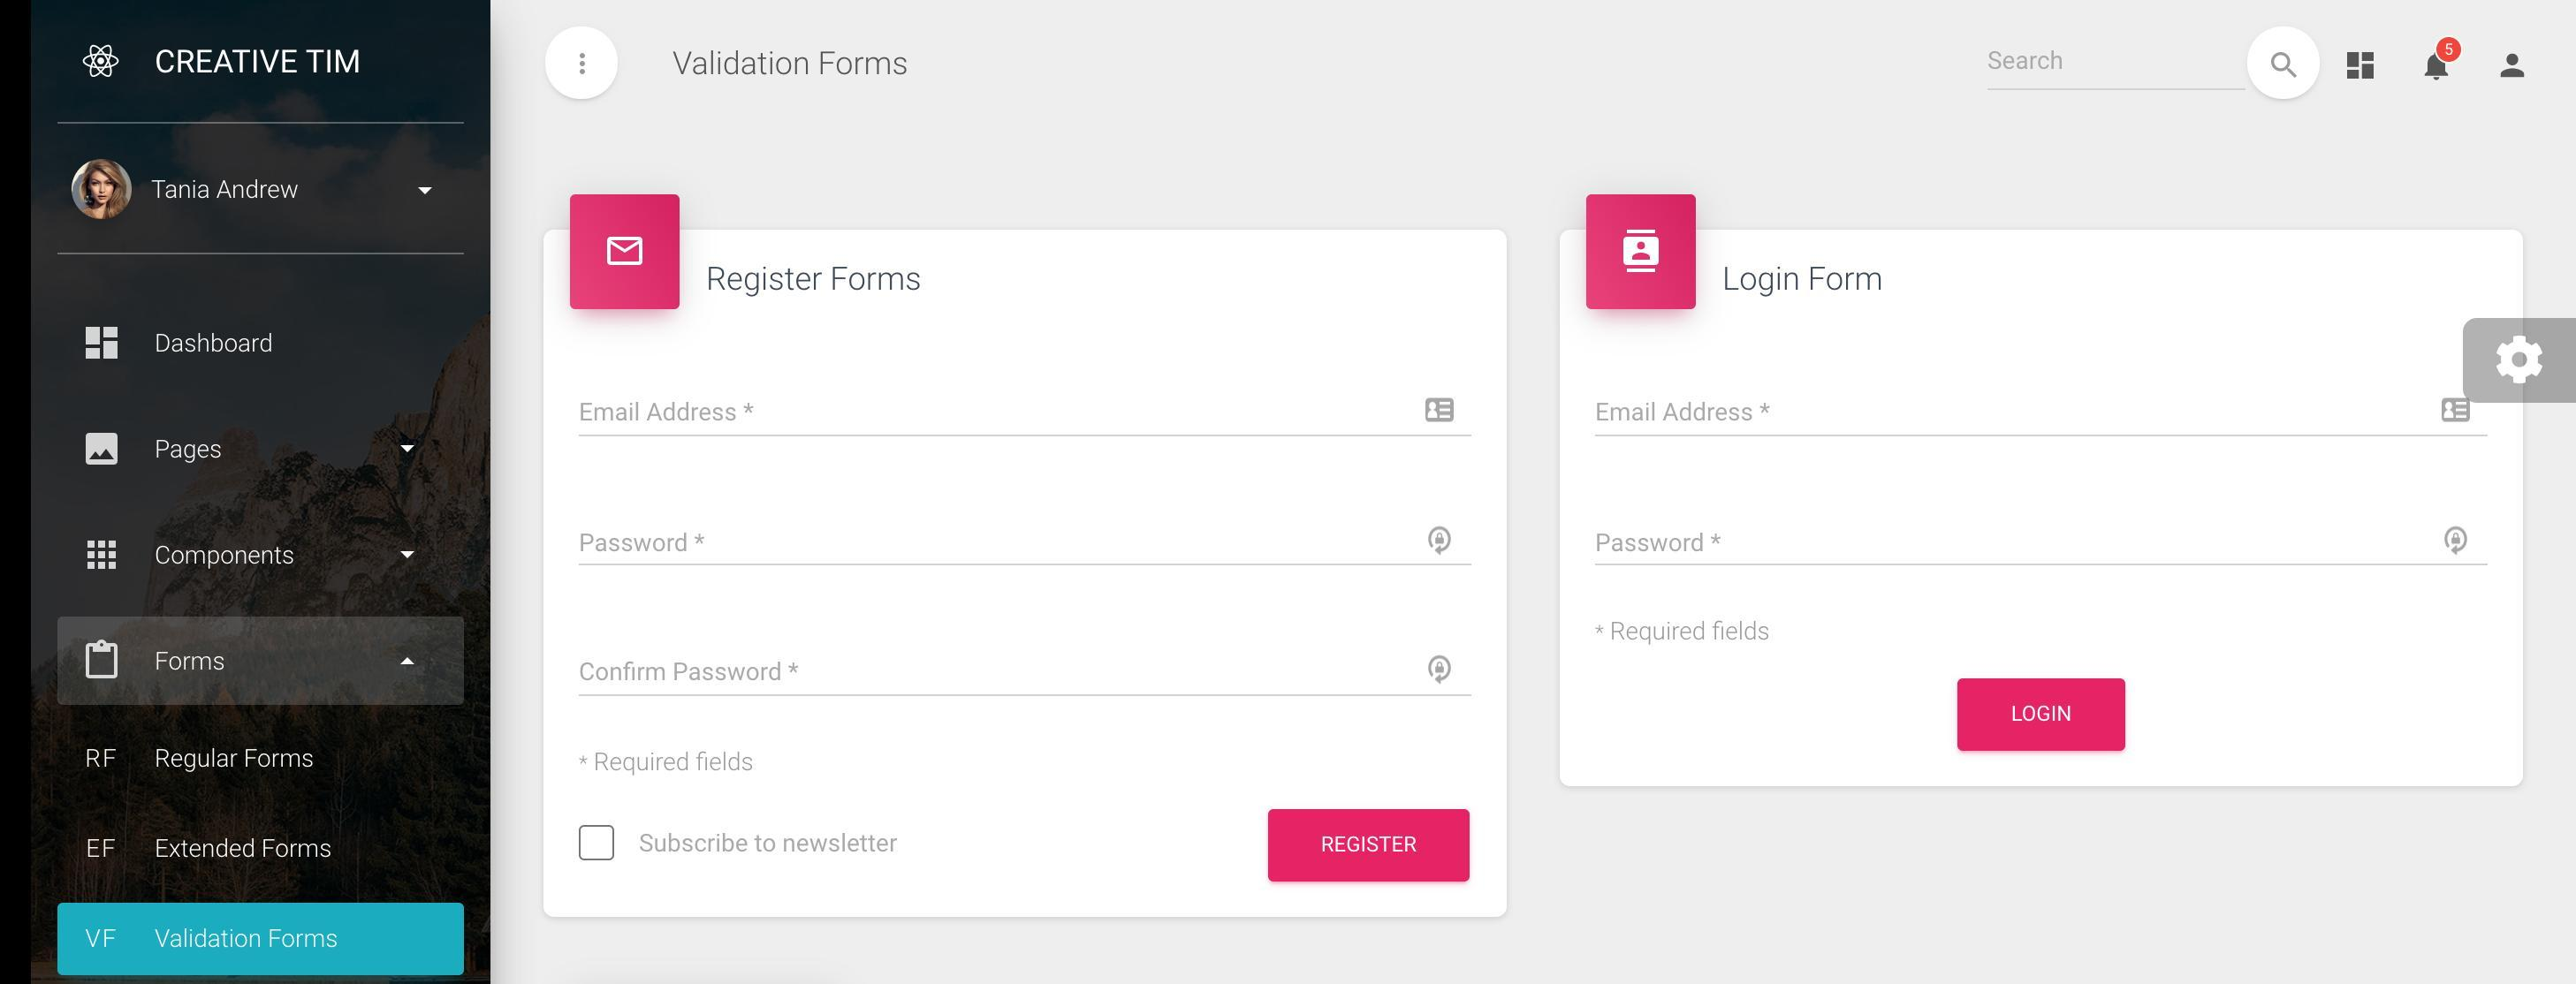button: (1265, 803, 1474, 887), (1952, 672, 2131, 756)
checkbox: (578, 823, 616, 862)
icon: (2495, 333, 2545, 388), (2422, 34, 2466, 87), (1623, 230, 1663, 279), (82, 325, 123, 363), (87, 641, 123, 682), (84, 44, 120, 82), (84, 537, 120, 575), (608, 235, 647, 266), (406, 177, 445, 209), (1421, 394, 1462, 424), (87, 434, 120, 467), (2346, 49, 2377, 80), (1426, 526, 1454, 557), (394, 644, 419, 678), (2270, 53, 2300, 79), (2443, 399, 2472, 425), (2499, 51, 2527, 77), (1428, 657, 1452, 685), (2445, 527, 2468, 555), (399, 542, 421, 572), (399, 437, 419, 465), (578, 51, 588, 79)
input: (1590, 504, 2495, 570), (570, 379, 1477, 440), (572, 644, 1475, 705), (1592, 384, 2491, 444), (568, 517, 1475, 570), (1985, 46, 2256, 92)
label: (672, 39, 915, 84), (636, 828, 902, 861), (700, 260, 930, 296), (1715, 256, 1884, 299), (149, 920, 342, 953), (1584, 616, 1773, 649), (577, 743, 756, 777), (154, 835, 335, 861), (154, 746, 317, 770), (153, 327, 276, 358)
